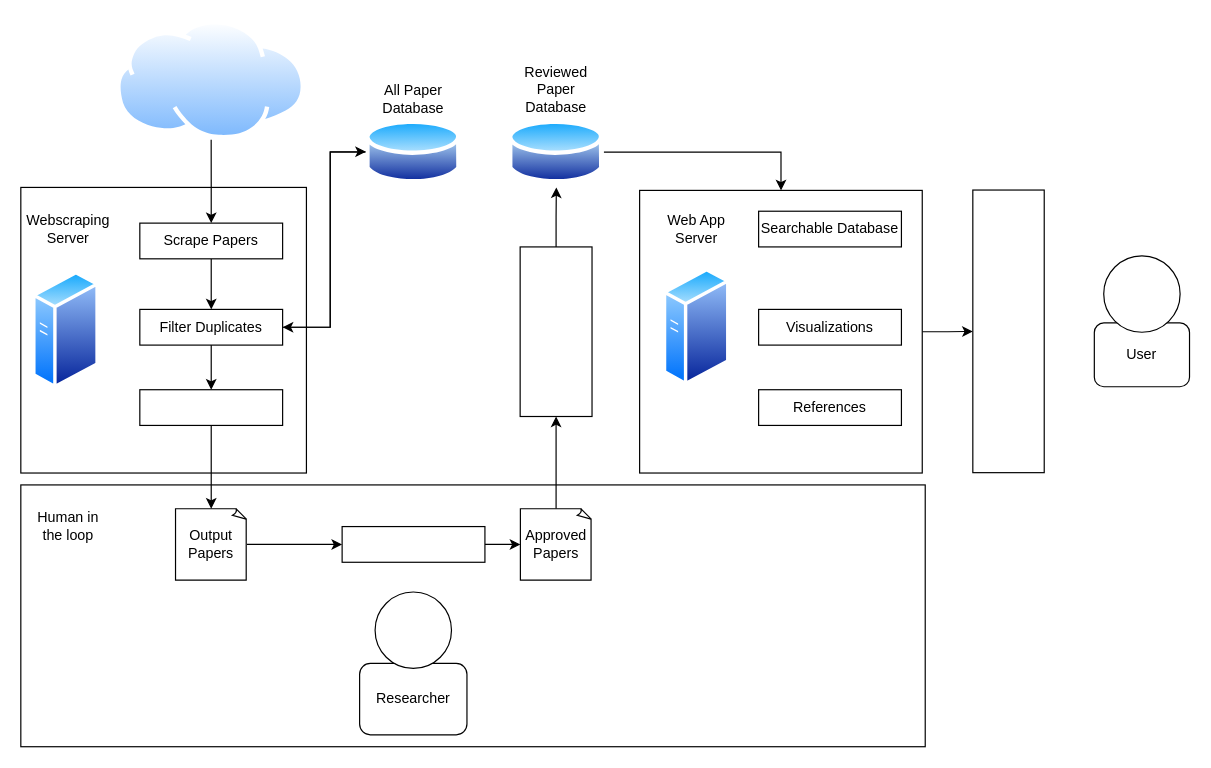
Image size: 1211x768. Some labels were removed from this diagram. The centre of each missing label's shape, as x and y in pixels:
Additional Filter Criteria: (211,407)
Human Review and Filtering: (413,543)
Internet: (210,79)
NLP Analysis and Clustering: (555,331)
Public Serving Website App: (1008,331)
